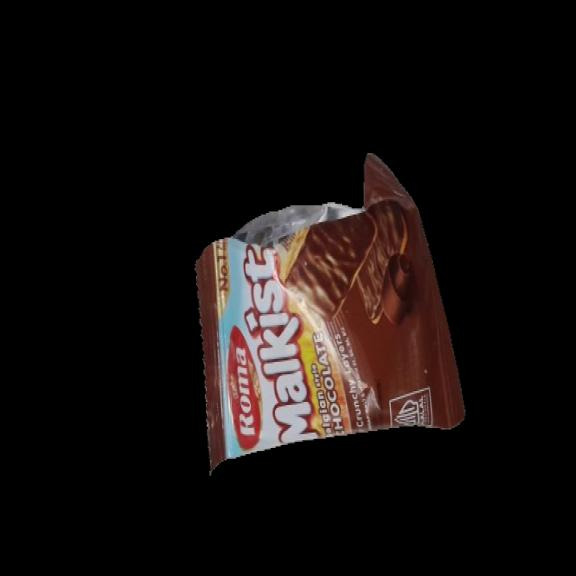Plastik: (187, 144, 470, 476)
